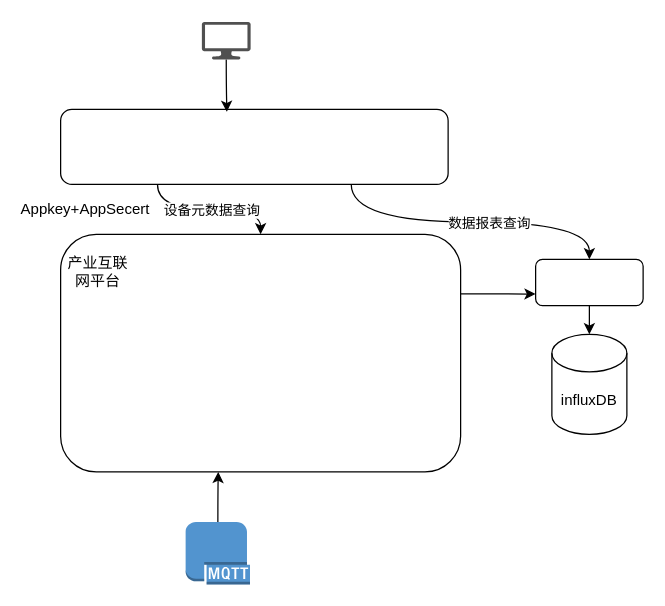
The diagram is 665 pixels wide and 606 high, and some of its shapes have lost their labels. Each missing label, with the centre of its shape:
"agg-data" goes at [588,282].
"中信重工矿山应用服务" goes at [253,146].
